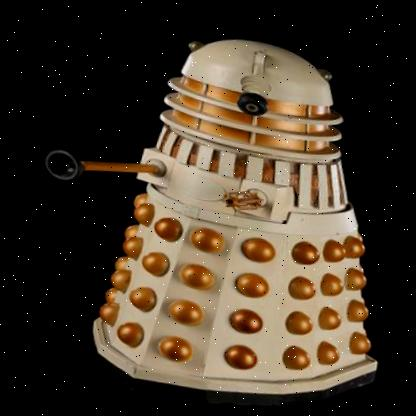dalek: (6, 0, 416, 416)
